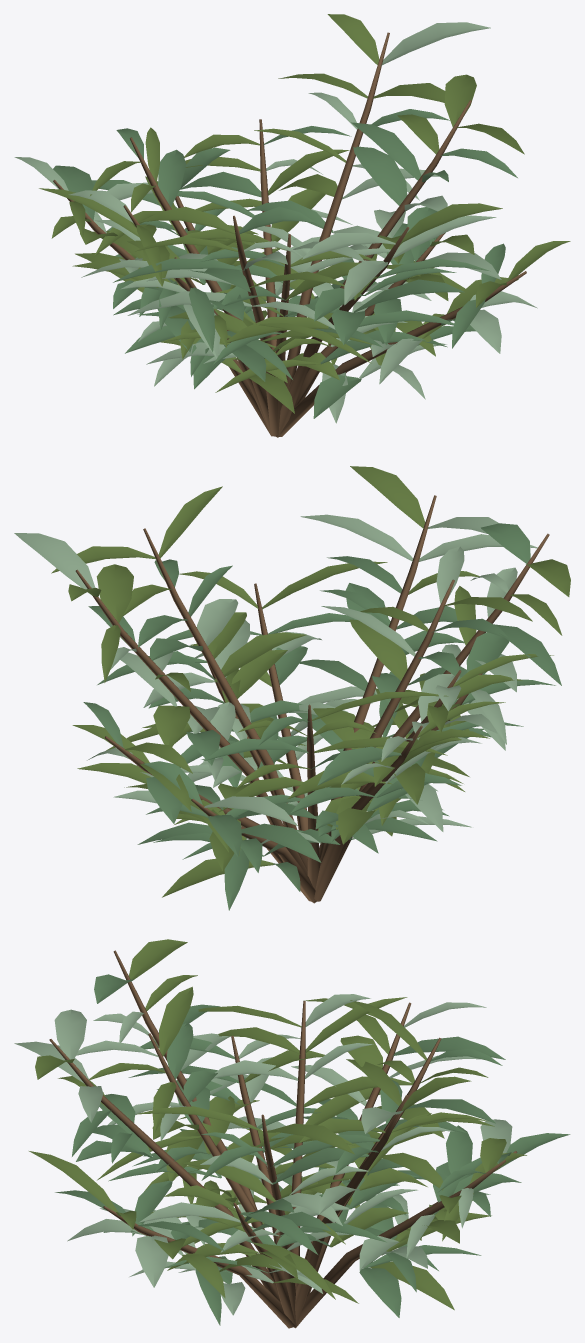
The model's file is sc_saltbush.glb.
3 renders of one model, top to bottom at view 1: azimuth 30°, elevation 25°; view 2: azimuth 150°, elevation 25°; view 3: azimuth 270°, elevation 25°, orthographic. The views are drawn at different scales.
Visible parts, largest first — view 1: sc_saltbush; view 2: sc_saltbush; view 3: sc_saltbush.
Boxes of the visible parts, <box> form: sc_saltbush: <box>14,14,570,437</box>; sc_saltbush: <box>14,466,570,910</box>; sc_saltbush: <box>14,939,570,1328</box>.
Bounding box in the file's own units: 1.18 × 0.8078 × 1.29.
